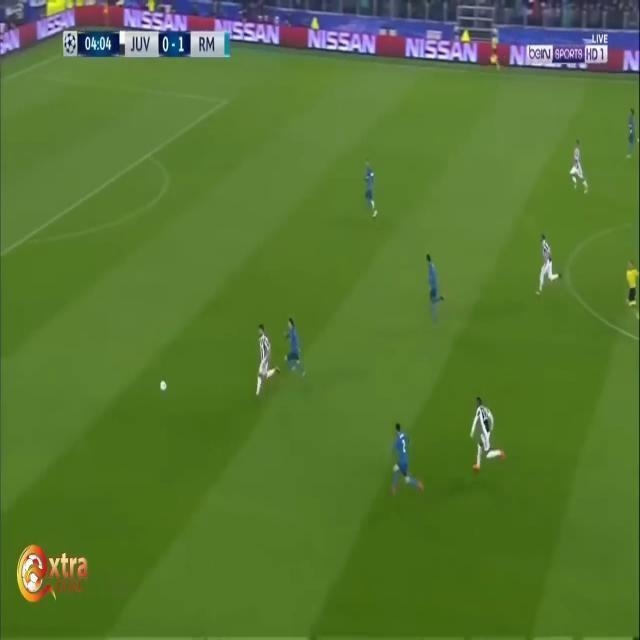ball: (158, 374, 168, 399)
player: (468, 388, 504, 486), (252, 320, 282, 405), (417, 246, 449, 321), (390, 424, 419, 506), (281, 313, 310, 392), (564, 132, 594, 200), (537, 227, 562, 306), (358, 157, 383, 227), (621, 91, 640, 162)
referee: (619, 253, 640, 326)
